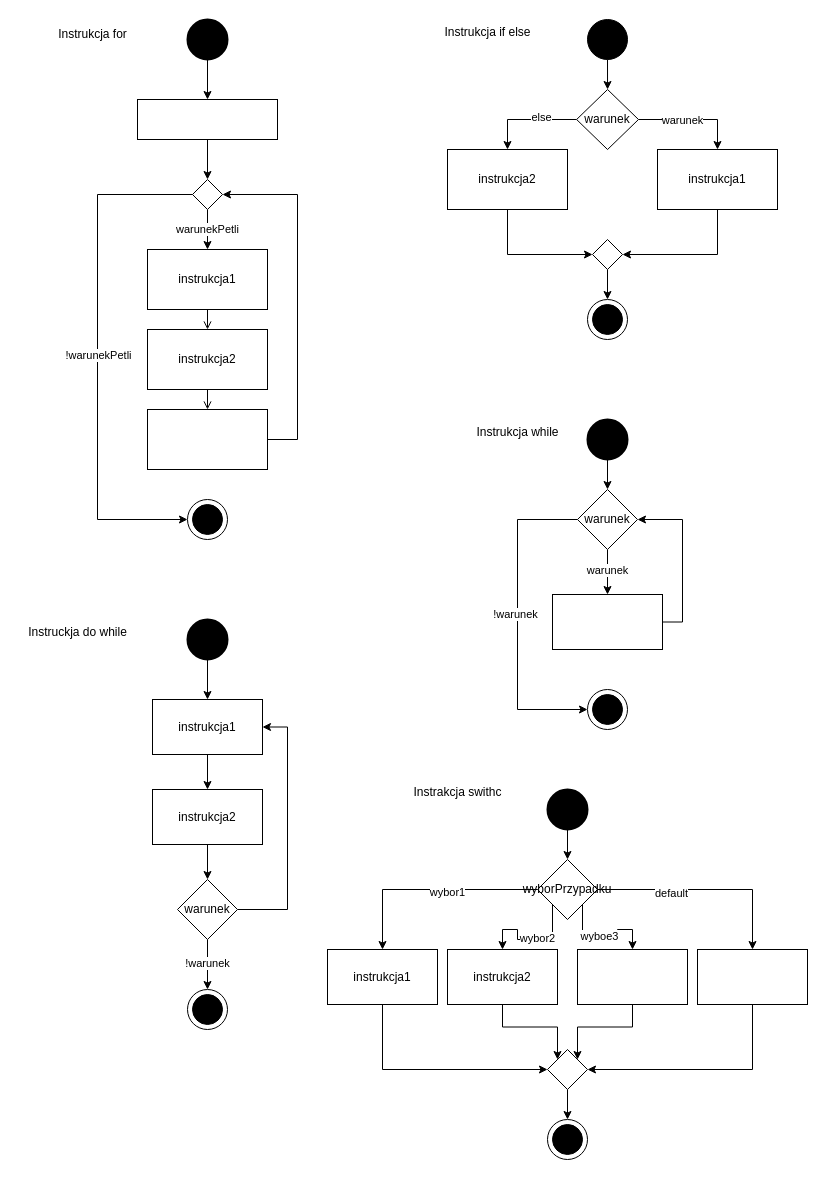
Image size: 825x1177. Some labels were removed from this diagram. The centre of each missing label's shape, as x and y in pixels:
"inicjalizacjaIteratora" goes at (x=207, y=119).
"instrukcja" goes at (x=607, y=622).
"instrukcja3" goes at (x=632, y=976).
"instrukcja4" goes at (x=752, y=976).
"operacjaNaIteratorze" goes at (x=207, y=439).
